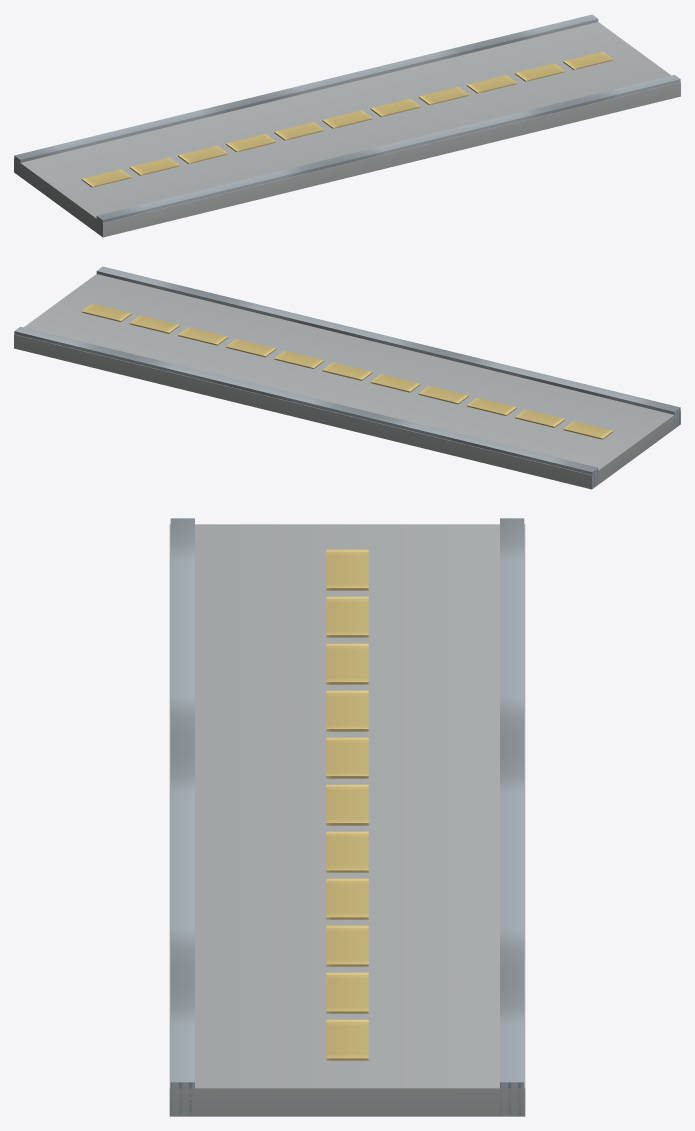
Rendered from sidewalk.glb.
3 renders of one model, top to bottom at view 1: azimuth 30°, elevation 25°; view 2: azimuth 150°, elevation 25°; view 3: azimuth 270°, elevation 25°, orthographic. The views are drawn at different scales.
Parts seen in each view (by area): view 1: sidewalk; view 2: sidewalk; view 3: sidewalk.
Boxes of the visible parts, x1,y1,x2,y2 form: sidewalk: (14,14,680,237); sidewalk: (14,266,680,489); sidewalk: (169,518,525,1116).
Size of the model in its own units: 12 by 0.34 by 3.2.
Materials: 1 (1 with a texture image).
